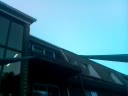window: (0, 9, 24, 96), (32, 44, 56, 61), (31, 87, 60, 96), (83, 91, 99, 96), (80, 62, 87, 71)
